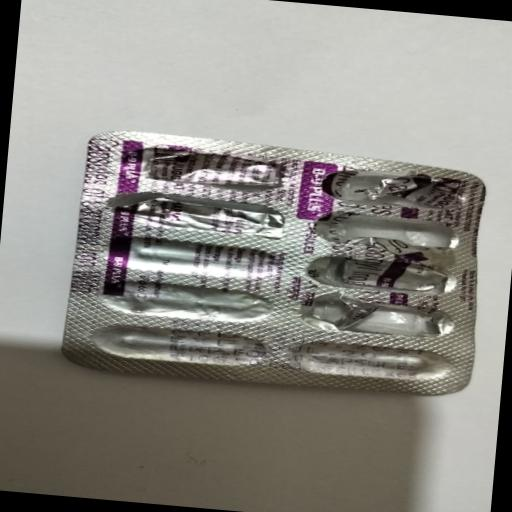B-9 plus: (63, 123, 490, 412)
